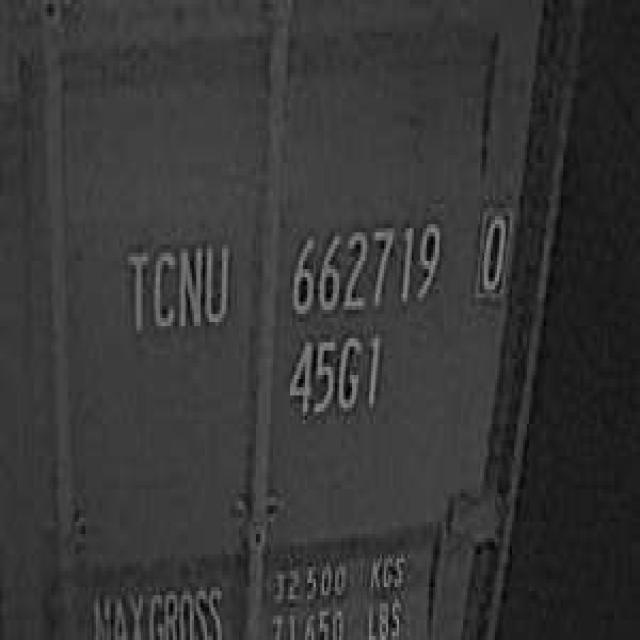dv: (472, 196, 514, 306)
owner: (120, 232, 232, 338)
serial: (284, 204, 446, 326)
size: (282, 330, 384, 428)
